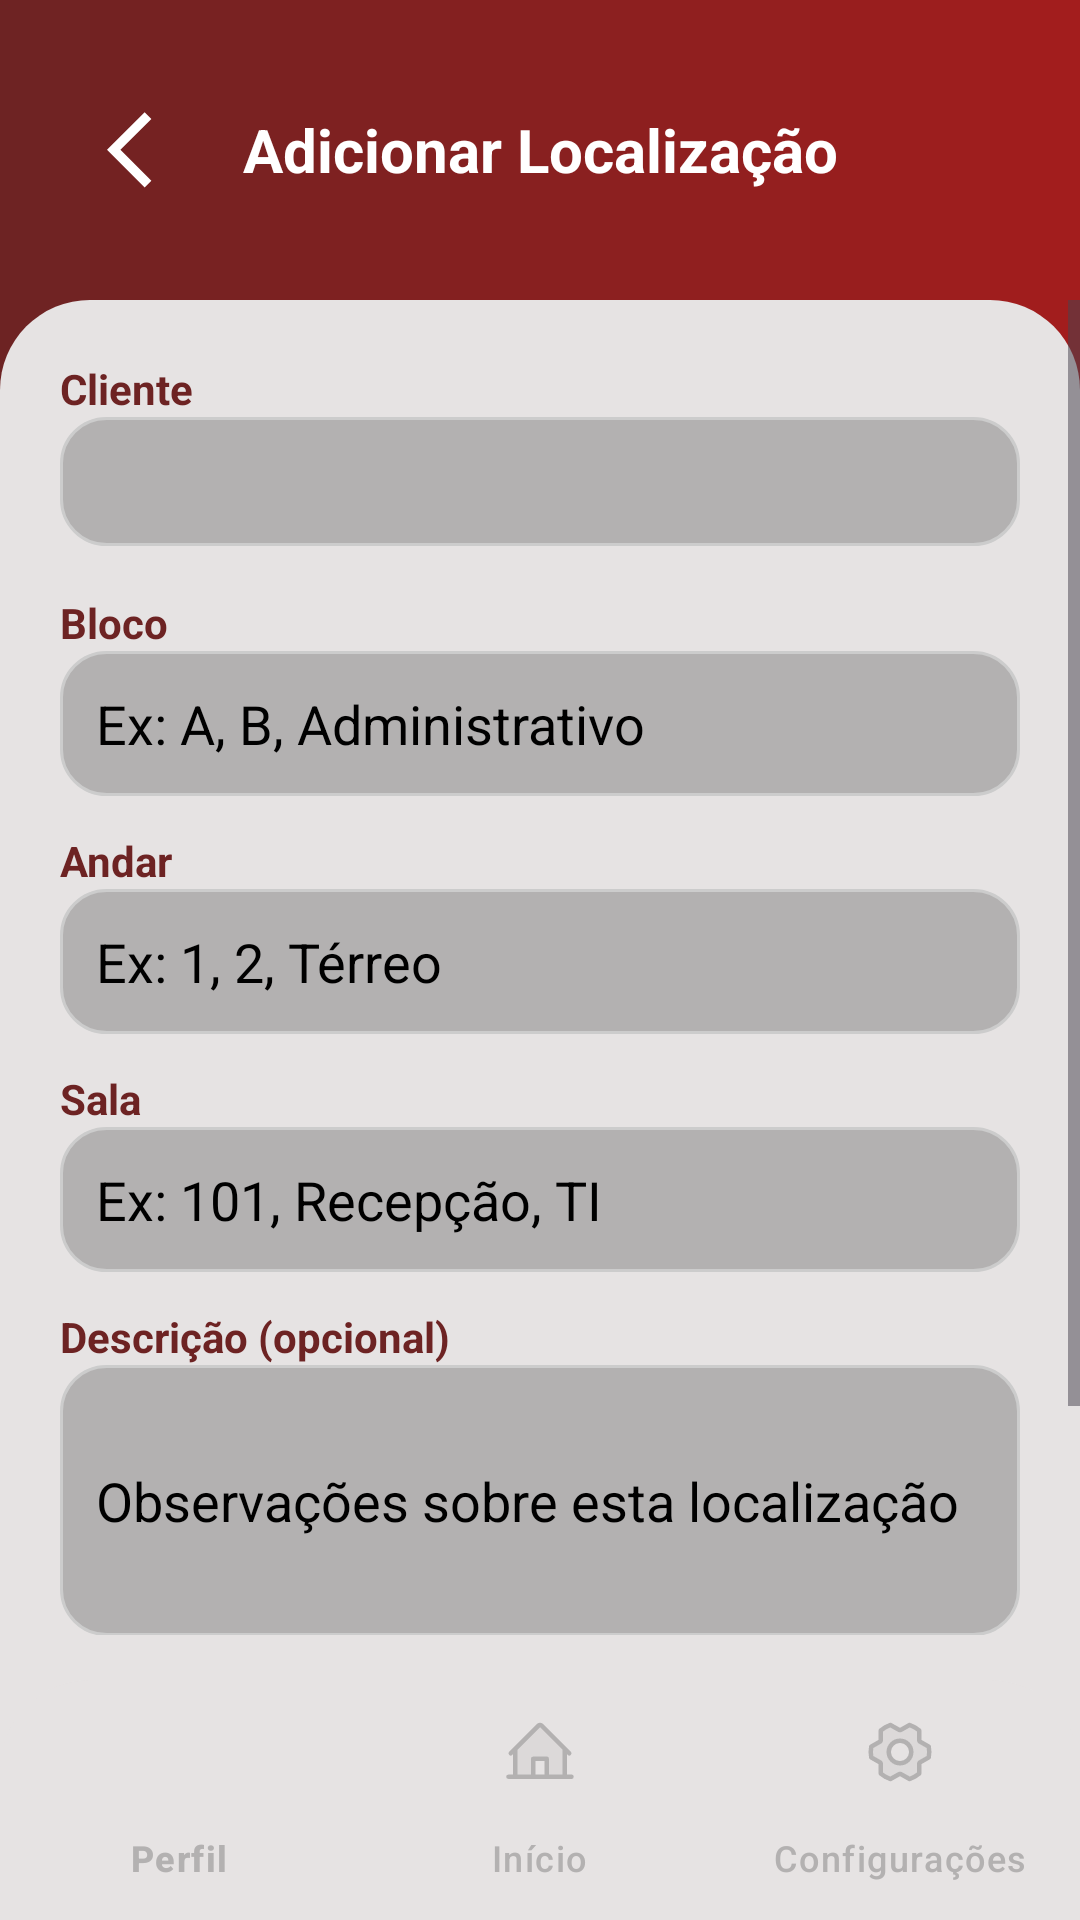

Named icons in this screenshot (1080×1920) and their centers, point (x, y):
arrow left: point (129, 150)
